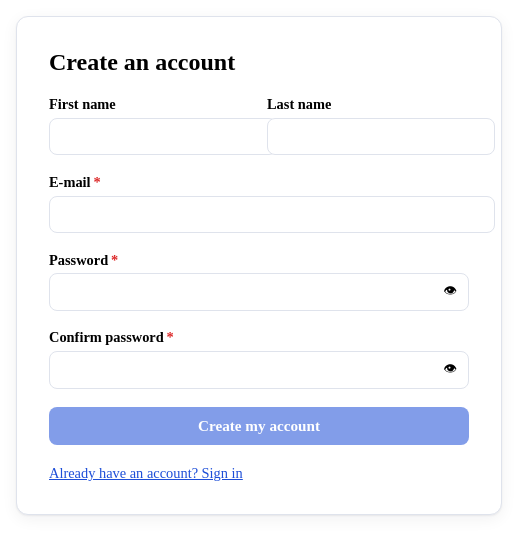
it: RegisterForm › validates the confirmation and shows server field errors
Step 1. Type "a@b.c" into the field labelled "E-mail*" → (272, 214), box 49,196 -> 495,233
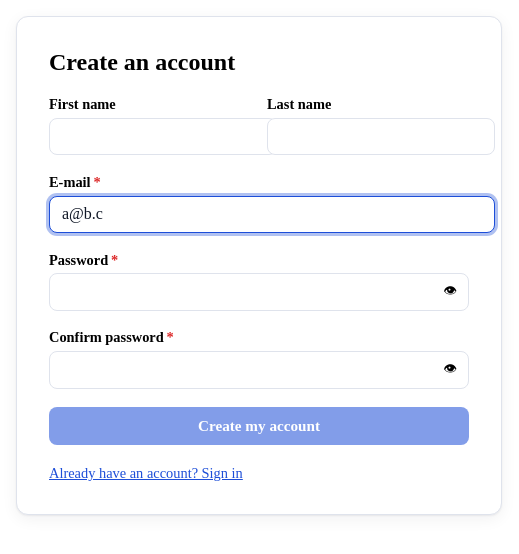
Step 2. Type "longpassword1" into the password field labelled "Password*" → (259, 292), box 49,273 -> 469,311
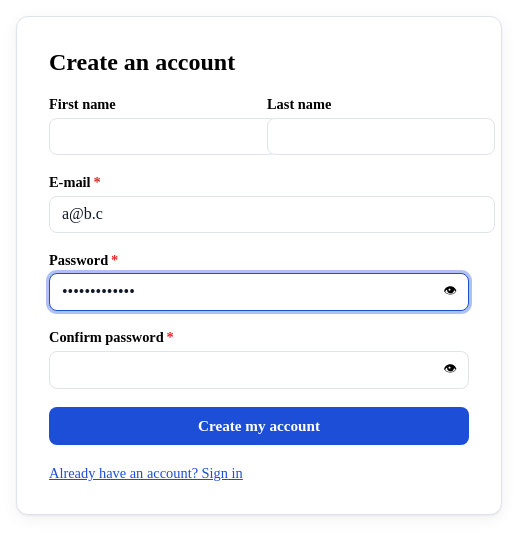
Step 3. Type "different" into the password field labelled "Confirm password*" → (259, 370), box 49,351 -> 469,389
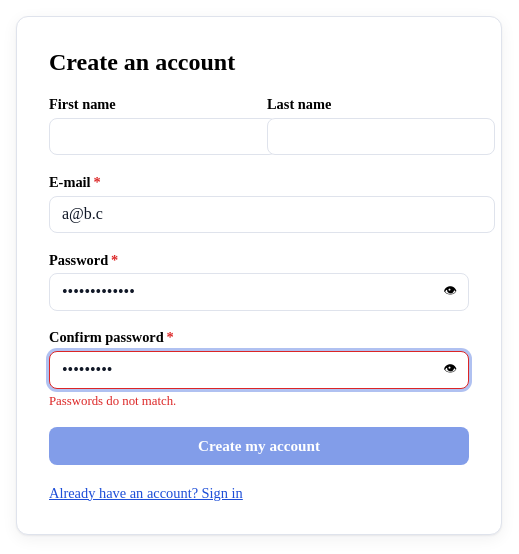
Check: the text "Passwords do not match." is shown, box 49,394 -> 176,408
Check: the button "Create my account" is disabled, box 49,427 -> 469,464
Step 4. Type "longpassword1" into the password field labelled "Confirm password*" → (259, 370), box 49,351 -> 469,389
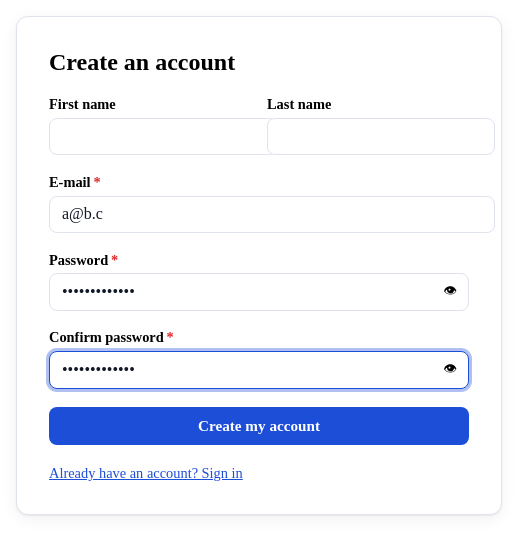
Step 5. Click the button "Create my account" → (259, 426), box 49,407 -> 469,445
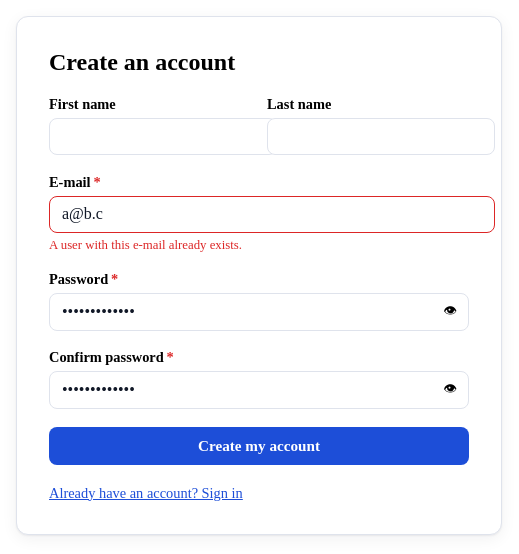
Check: the text "A user with this e-mail already exists." is shown, box 49,238 -> 242,252
